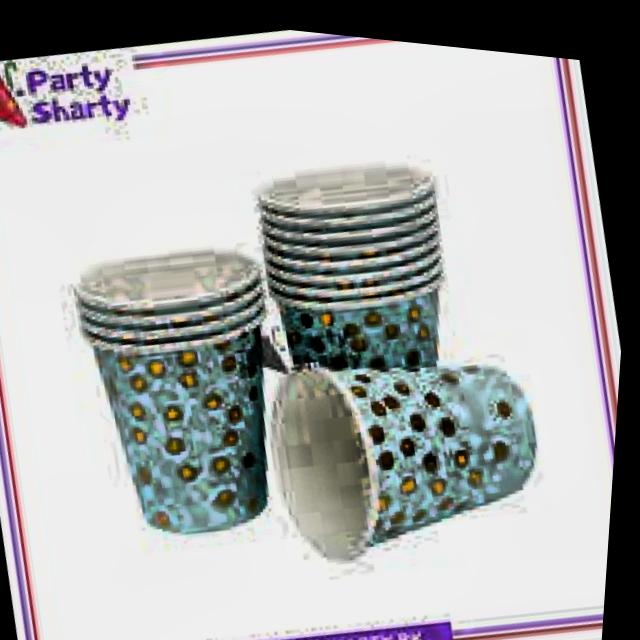Cup: (225, 124, 510, 506), (242, 298, 577, 583), (59, 222, 304, 569)
